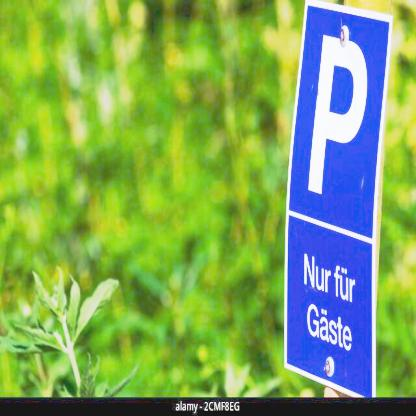Parking: (294, 0, 381, 231)
